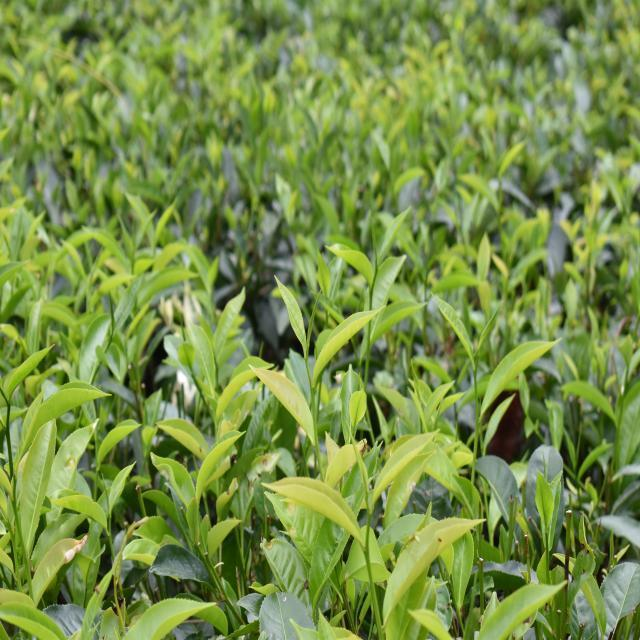Stem: (191, 374, 196, 380), (367, 513, 373, 517), (473, 371, 477, 376), (369, 290, 373, 294), (305, 358, 308, 363), (7, 402, 10, 407)
